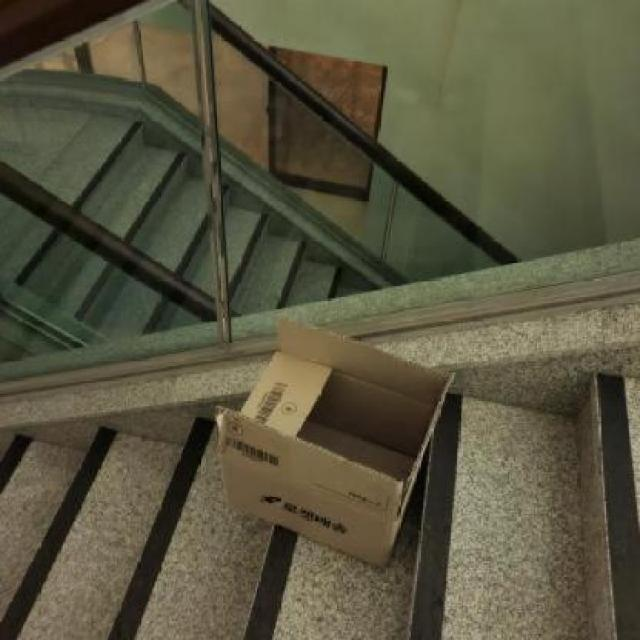box: (190, 300, 465, 585)
